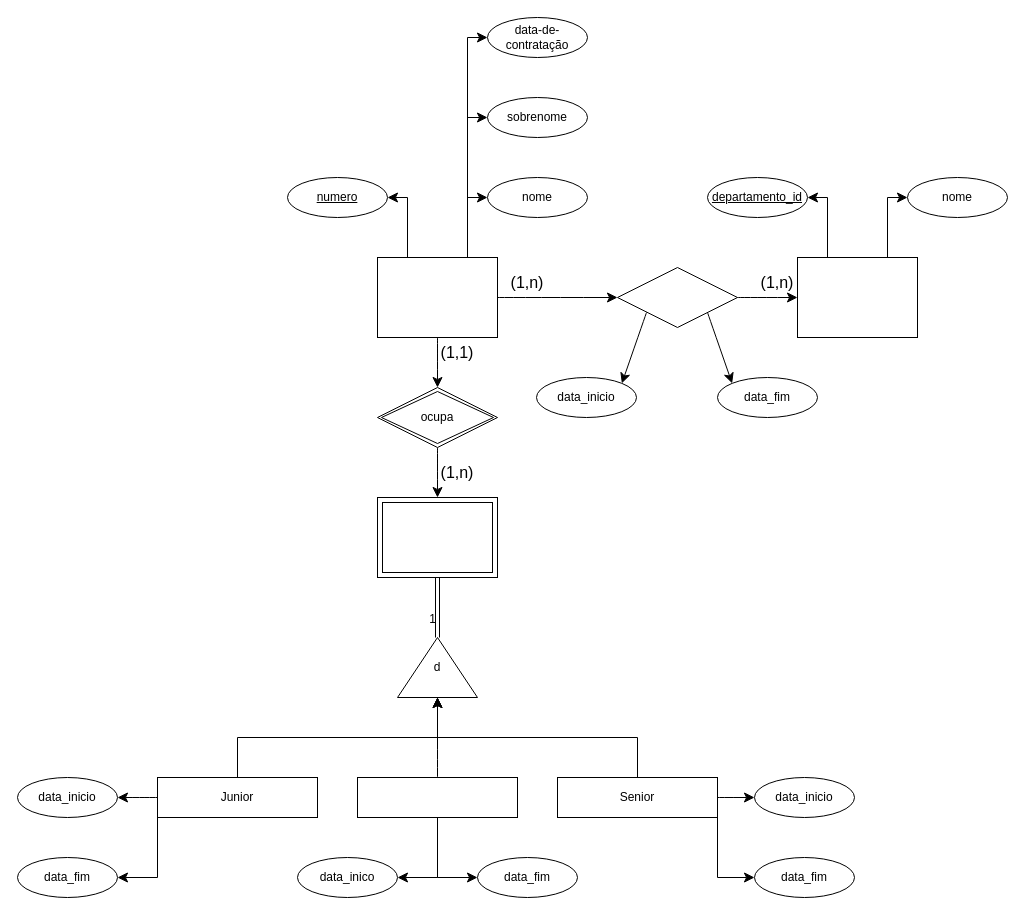
The diagram is 1025 pixels wide and 915 high, and some of its shapes have lost their labels. The box of each missing label's shape, as (x1, y1, x2, y2) in pixels:
Cargo_ocupado: (376, 496, 498, 578)
Departamento: (796, 256, 918, 338)
Funcionario: (376, 256, 498, 338)
Pleno: (356, 776, 518, 818)
trabalha: (616, 266, 738, 328)
